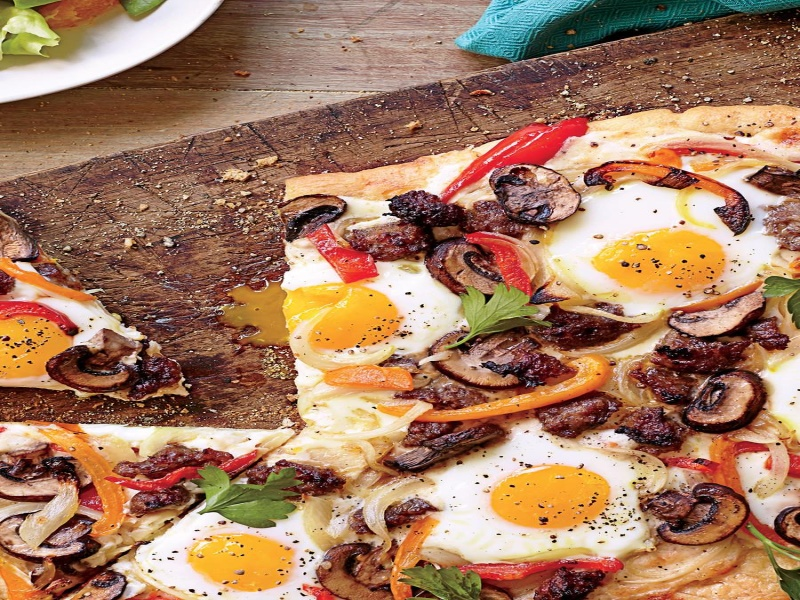champignon: (635, 476, 755, 552), (424, 325, 546, 395), (43, 322, 145, 397), (486, 161, 587, 227), (676, 368, 771, 436), (273, 190, 355, 242)
oeuf: (481, 455, 620, 544), (585, 225, 741, 301), (292, 277, 417, 367), (178, 525, 309, 599)
